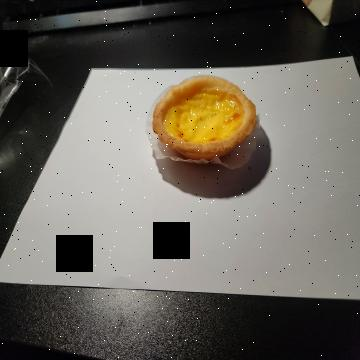EggTart: (151, 75, 258, 161)
